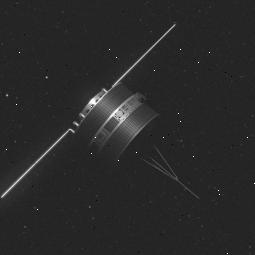double_start: (67, 61, 182, 194)
